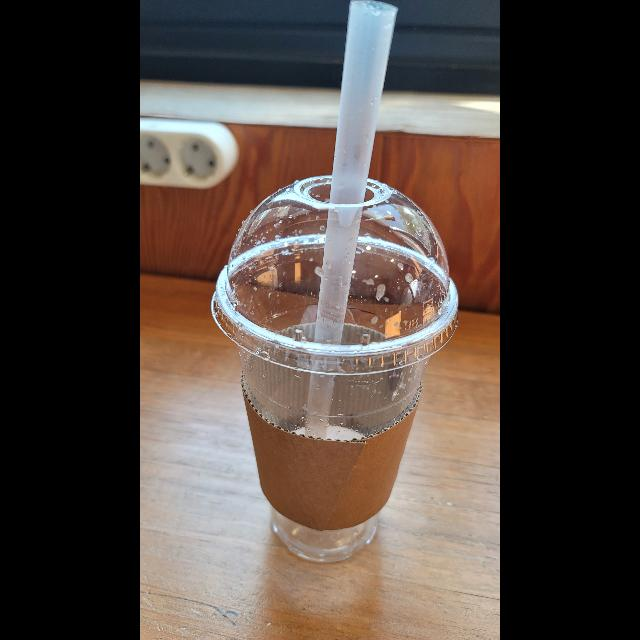plastic_cup: (207, 175, 459, 565)
plastic_cup_lid: (209, 172, 459, 374)
straw: (309, 7, 398, 443)
